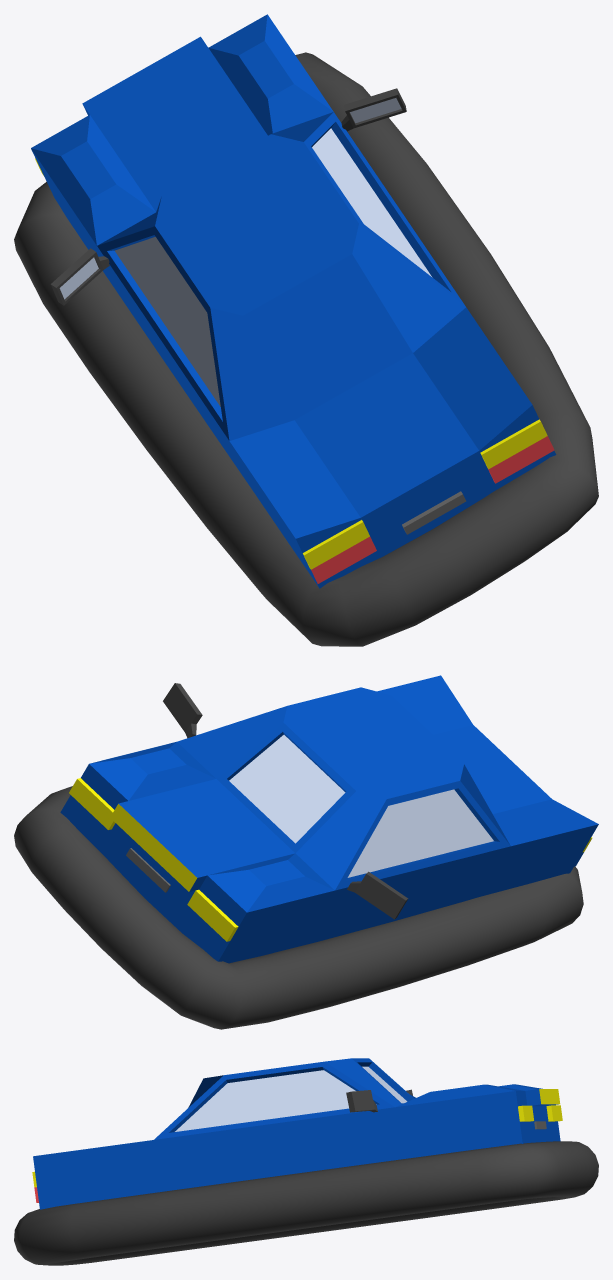
Rendered from car4.fbx.
3 renders of one model, top to bottom at view 1: azimuth 30°, elevation 25°; view 2: azimuth 150°, elevation 25°; view 3: azimuth 270°, elevation 25°, orthographic. The views are drawn at different scales.
Visible parts, largest first — view 1: car.003, airCussion.003, sideMirrorRight.003, sideMirrorLeft.003; view 2: car.003, airCussion.003, sideMirrorLeft.003, sideMirrorRight.003; view 3: car.003, airCussion.003, sideMirrorRight.003.
Boxes of the visible parts, x1=… form: car.003: x1=31, y1=14, x2=556, y2=588; airCussion.003: x1=14, y1=52, x2=598, y2=646; sideMirrorRight.003: x1=341, y1=88, x2=406, y2=131; sideMirrorLeft.003: x1=50, y1=248, x2=109, y2=305; car.003: x1=60, y1=675, x2=598, y2=963; airCussion.003: x1=14, y1=786, x2=583, y2=1029; sideMirrorLeft.003: x1=347, y1=871, x2=408, y2=919; sideMirrorRight.003: x1=163, y1=683, x2=202, y2=738; car.003: x1=32, y1=1058, x2=562, y2=1209; airCussion.003: x1=14, y1=1141, x2=598, y2=1265; sideMirrorRight.003: x1=346, y1=1090, x2=377, y2=1112.
Size of the model in its own units: 51.39 by 47.2 by 97.29.
